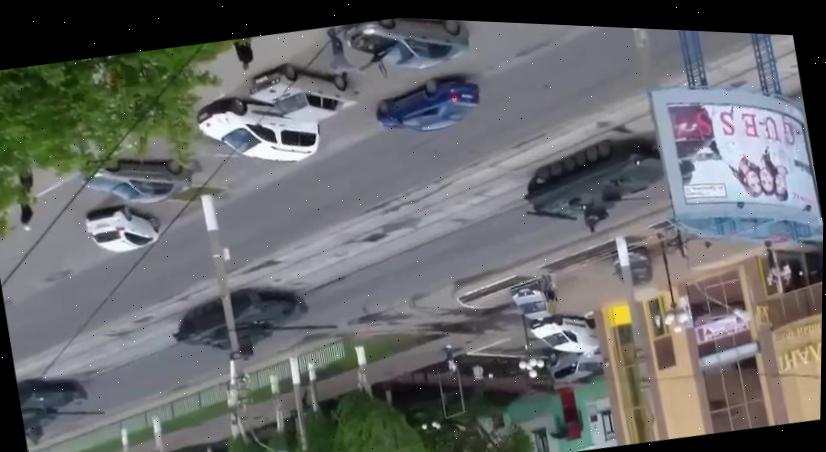car: (192, 82, 324, 178), (241, 50, 361, 133), (339, 15, 472, 84), (369, 66, 485, 143), (75, 142, 195, 216), (81, 196, 163, 259), (527, 306, 600, 360), (542, 342, 603, 387), (508, 278, 555, 323), (608, 243, 653, 290)
person: (322, 23, 365, 80), (230, 35, 256, 72), (760, 246, 780, 284), (437, 341, 458, 377), (15, 197, 36, 231), (14, 166, 36, 197), (578, 206, 601, 235)
tank: (513, 125, 673, 248), (164, 270, 342, 377), (14, 367, 109, 449)
